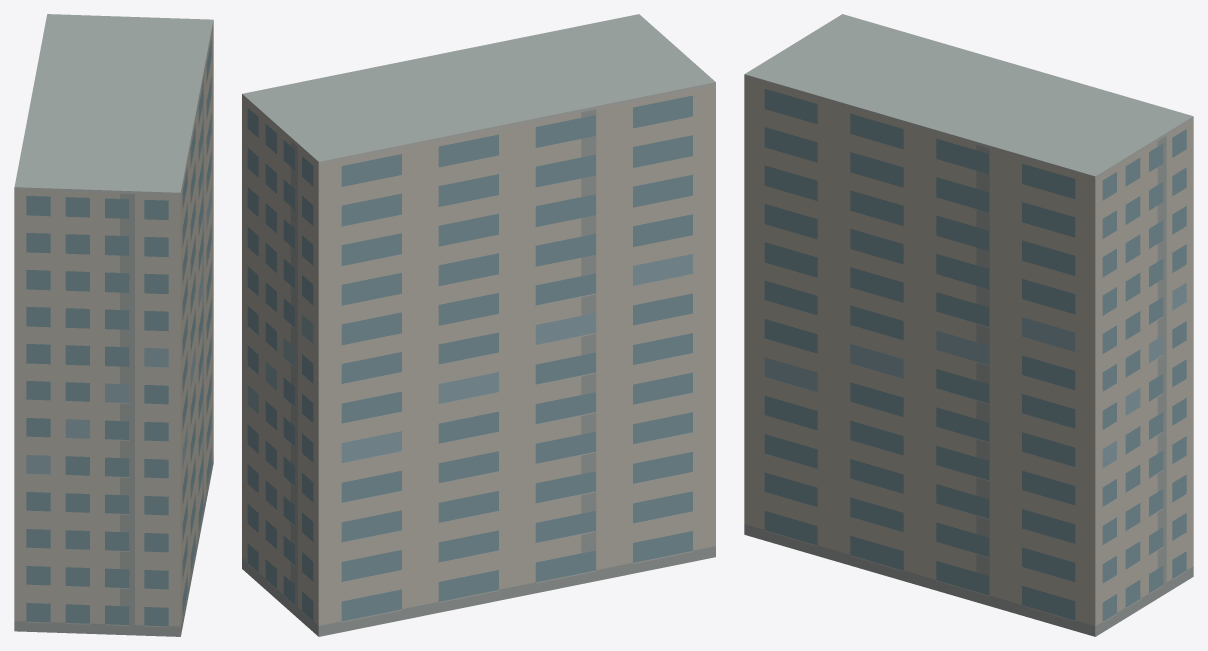
The model's file is residential-6a5fbe51-9985-4ff3-91ff-0f6e5d7c8dd0.glb.
3 renders of one model, left to right at view 1: azimuth 30°, elevation 25°; view 2: azimuth 150°, elevation 25°; view 3: azimuth 270°, elevation 25°, orthographic. The views are drawn at different scales.
Visible parts, largest first — view 1: residential-6a5fbe51-9985-4ff3-91ff-0f6e5d7c8dd0.tmp; view 2: residential-6a5fbe51-9985-4ff3-91ff-0f6e5d7c8dd0.tmp; view 3: residential-6a5fbe51-9985-4ff3-91ff-0f6e5d7c8dd0.tmp.
Boxes of the visible parts, x1,y1,x2,y2 form: residential-6a5fbe51-9985-4ff3-91ff-0f6e5d7c8dd0.tmp: [14, 14, 213, 636]; residential-6a5fbe51-9985-4ff3-91ff-0f6e5d7c8dd0.tmp: [242, 14, 715, 636]; residential-6a5fbe51-9985-4ff3-91ff-0f6e5d7c8dd0.tmp: [744, 14, 1193, 636].
Size of the model in its own units: 28.75 by 38 by 33.59.
